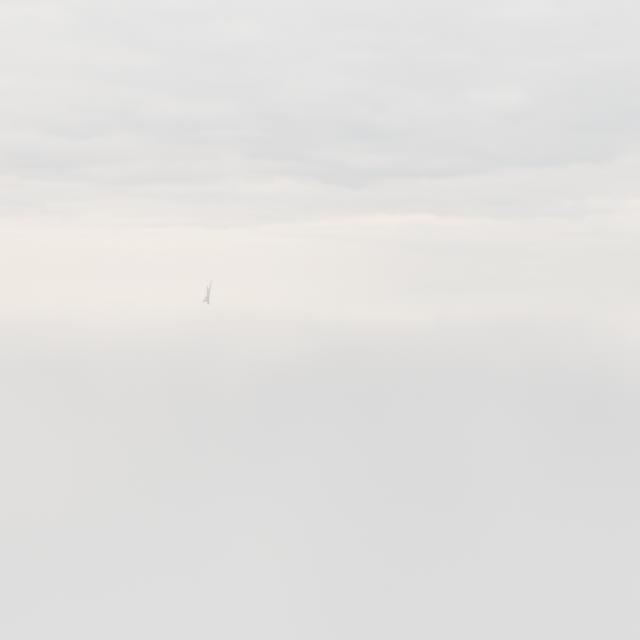Airaplan: (202, 280, 213, 305)
